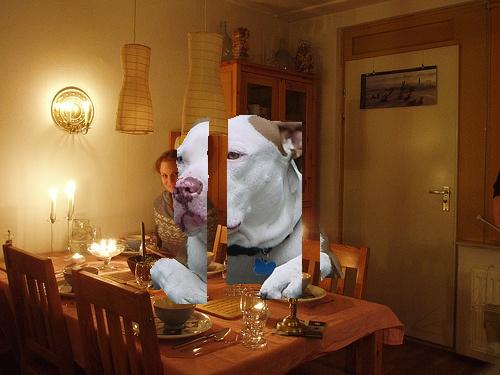tampered: (151, 116, 345, 304)
